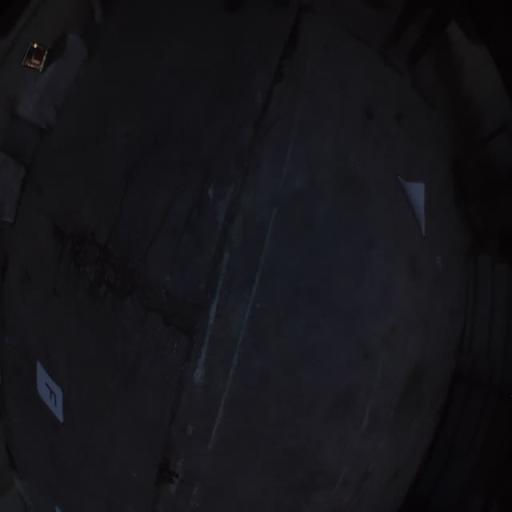F: (36, 360, 65, 424)
